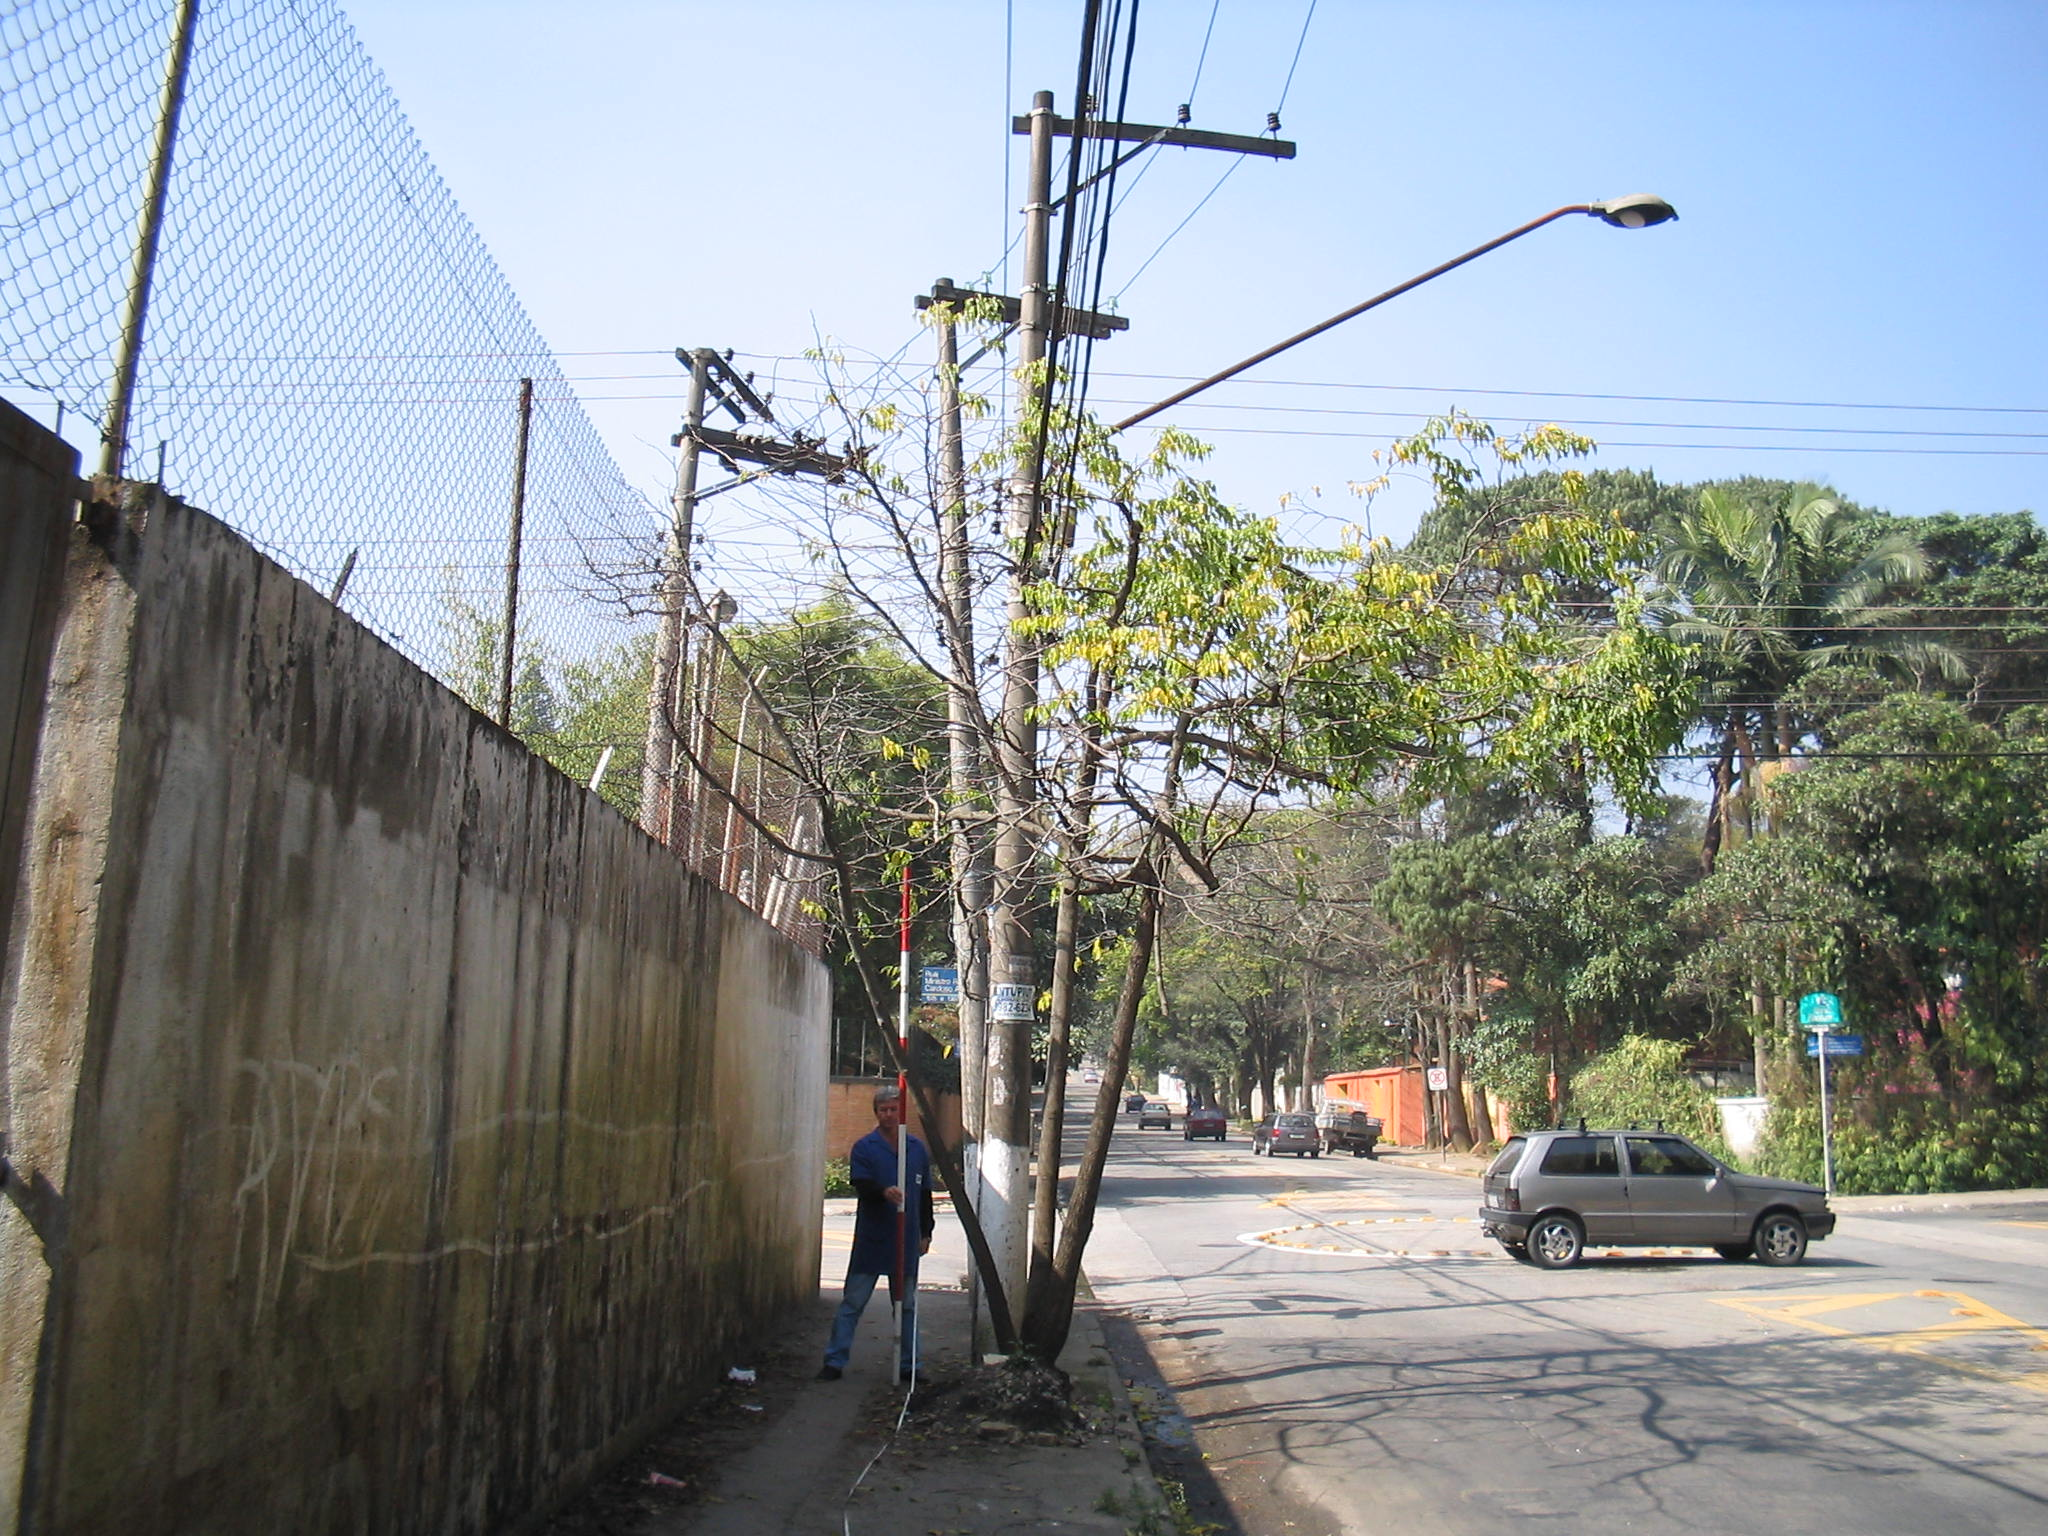stick: (864, 862, 937, 1384)
tree: (592, 289, 1701, 1384)
